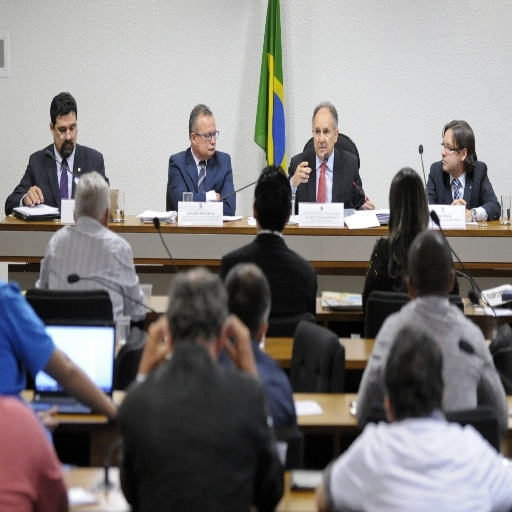hand: (222, 314, 258, 369), (137, 314, 170, 372), (292, 160, 311, 185), (24, 184, 44, 206), (450, 195, 467, 205), (464, 206, 474, 223), (362, 197, 375, 209)
